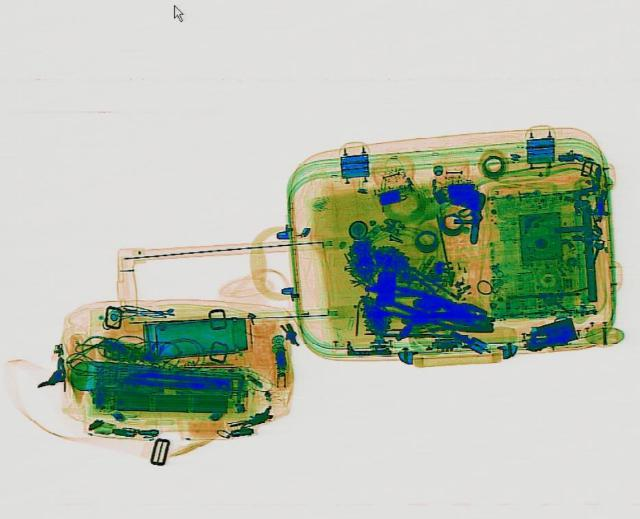Pliers: (358, 278, 488, 328)
